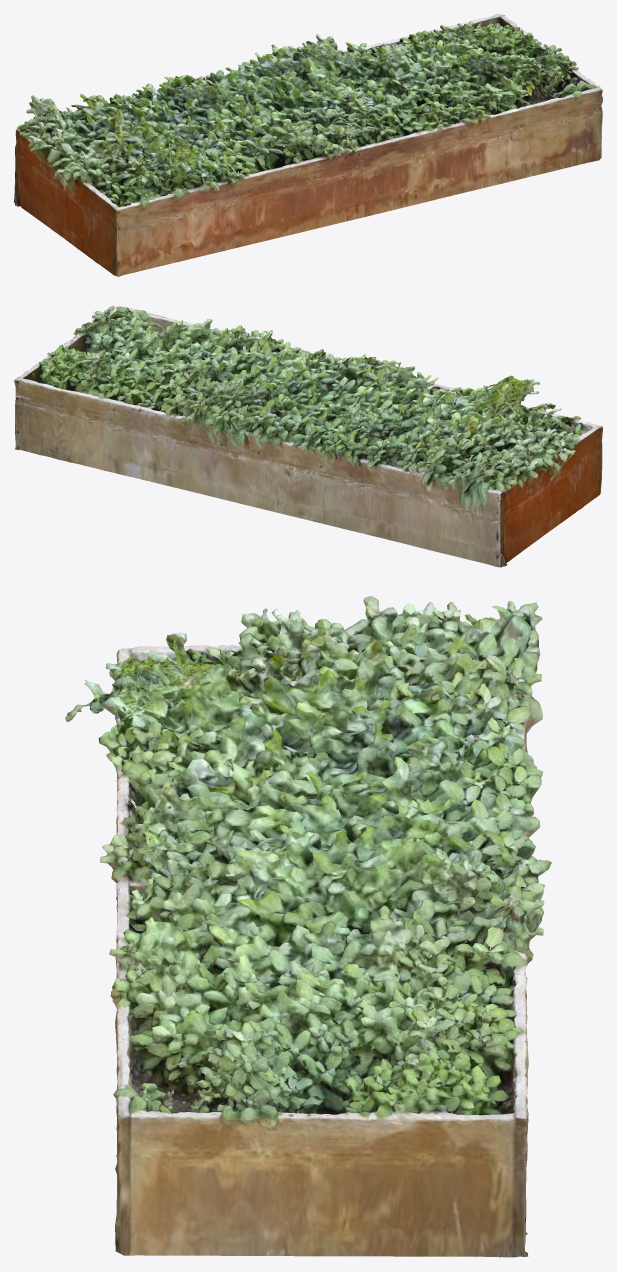
The model's file is bed.glb.
The picture shows the model from 3 angles, top to bottom: view 1: azimuth 30°, elevation 25°; view 2: azimuth 150°, elevation 25°; view 3: azimuth 270°, elevation 25°; orthographic projection. The views are drawn at different scales.
Parts seen in each view (by area): view 1: Object_4; view 2: Object_4; view 3: Object_4.
Part boxes in pixels (x1,y1,x2,y2): Object_4: (14,14,602,276); Object_4: (14,305,602,567); Object_4: (65,596,551,1257).
Bounding box in the file's own units: 3.61 × 0.7293 × 1.5.
1 material, 1 textured.
